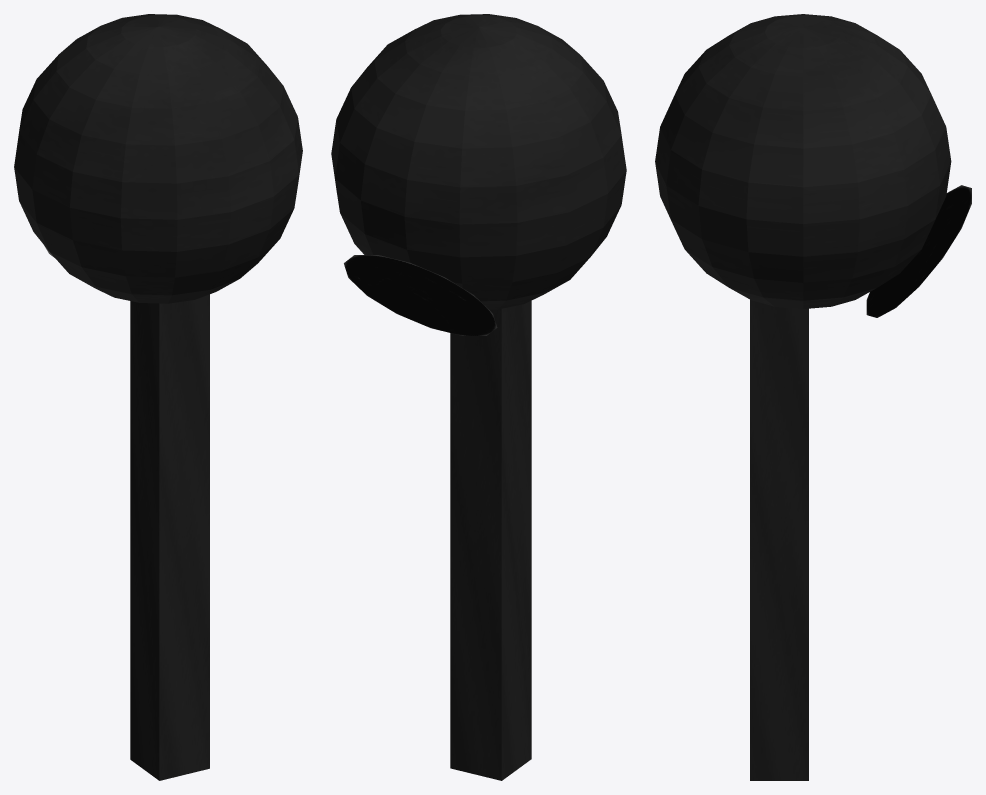
File: trafficpolecamera_tiny_cam_inv.obj
3 renders of one model, left to right at view 1: azimuth 30°, elevation 25°; view 2: azimuth 150°, elevation 25°; view 3: azimuth 270°, elevation 25°, orthographic. The views are drawn at different scales.
Visible parts, largest first — view 1: miovision360; view 2: miovision360; view 3: miovision360.
Boxes of the visible parts, box(x1,y1,x2,y2) form: miovision360: box(14, 14, 302, 780); miovision360: box(331, 14, 626, 780); miovision360: box(655, 14, 971, 780).
Bounding box in the file's own units: 0.3125 × 0.8625 × 0.3342.
